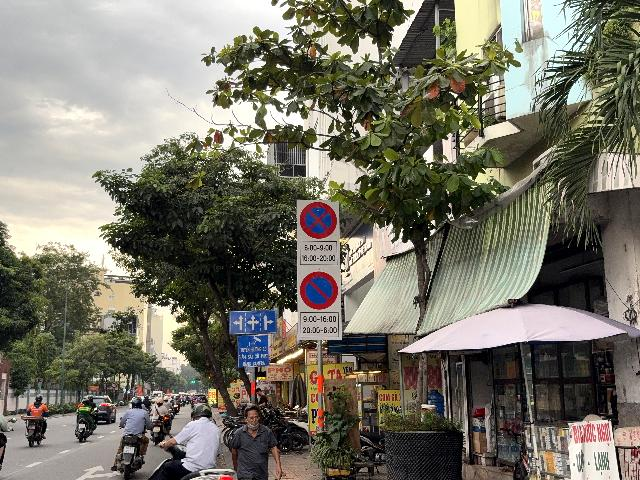cam-do-xe: (300, 271, 338, 310)
cam-dung-va-do-xe: (300, 202, 337, 239)
